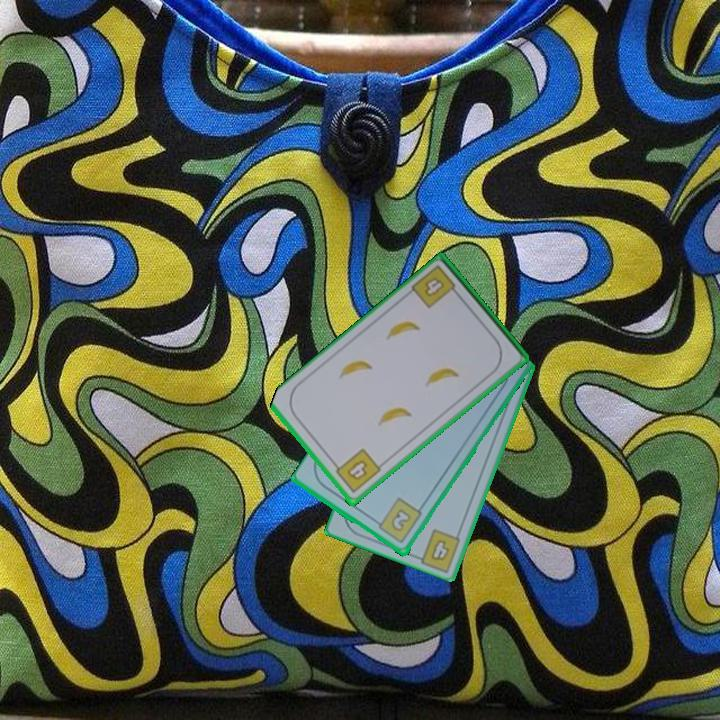2b: (371, 495, 425, 547)
4b: (329, 445, 384, 496), (427, 536, 453, 564), (421, 274, 448, 300)
